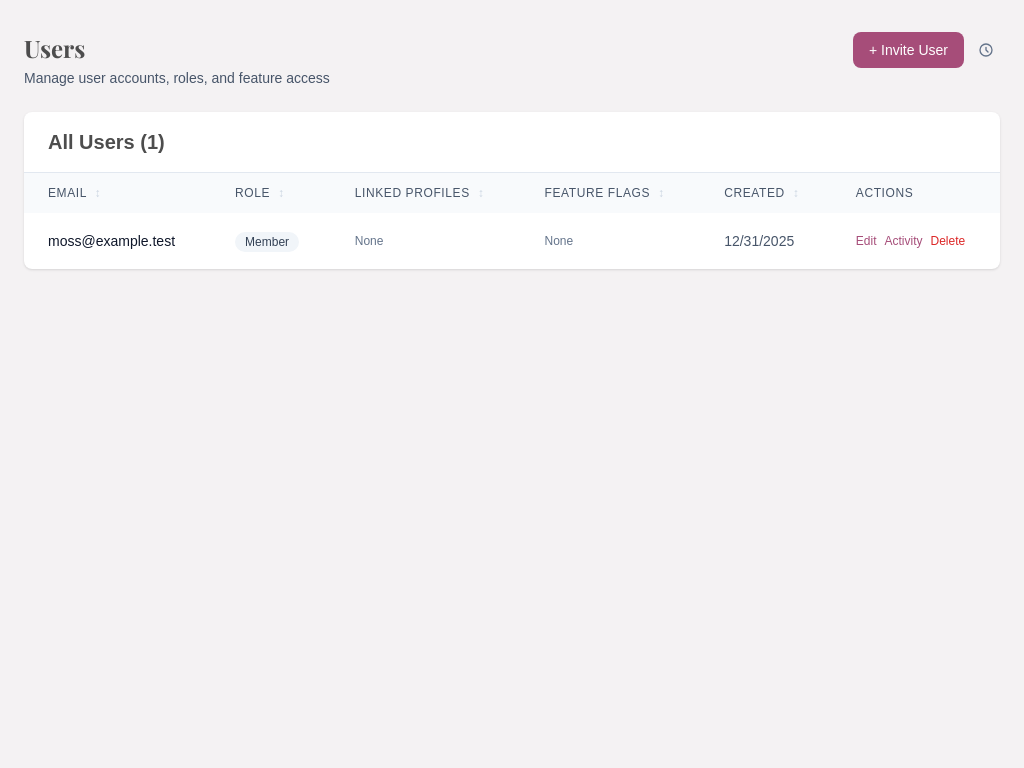
Scenario: UsersClient activity modal › still shows the device once the raw user agent has been removed, from the one stored with the visit
Click the button "Activity".
click(904, 241)  # box x1=884 y1=233 x2=922 y2=249
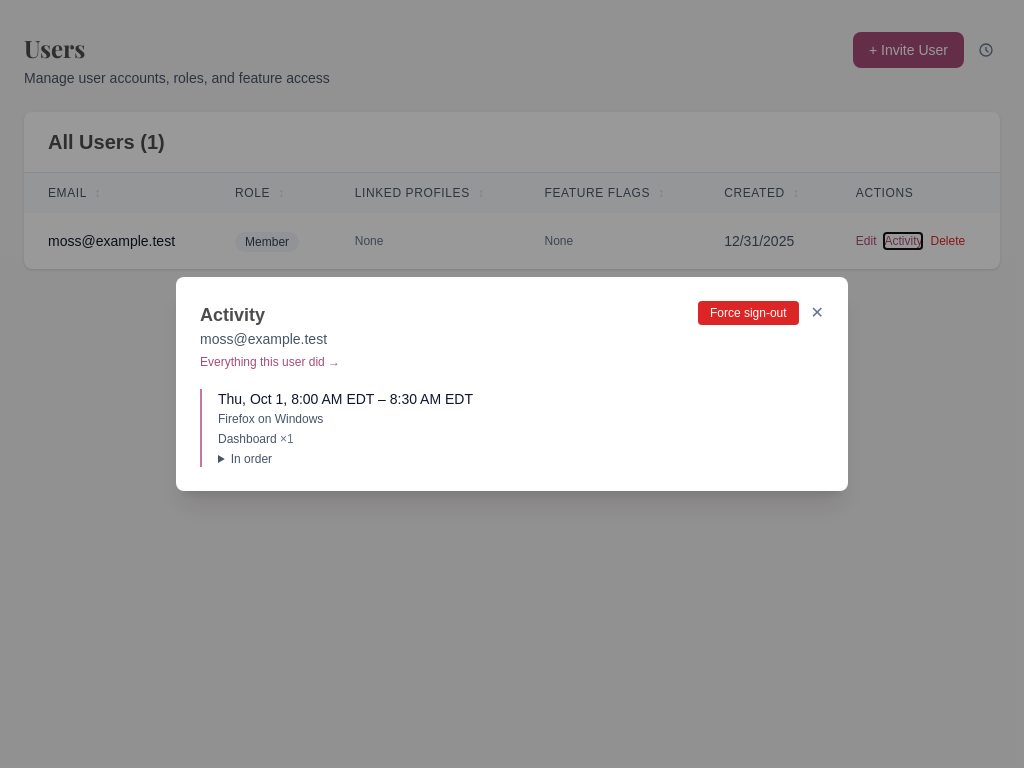
Expected: the text "Firefox on Windows" is shown, x1=218 y1=412 x2=323 y2=426
